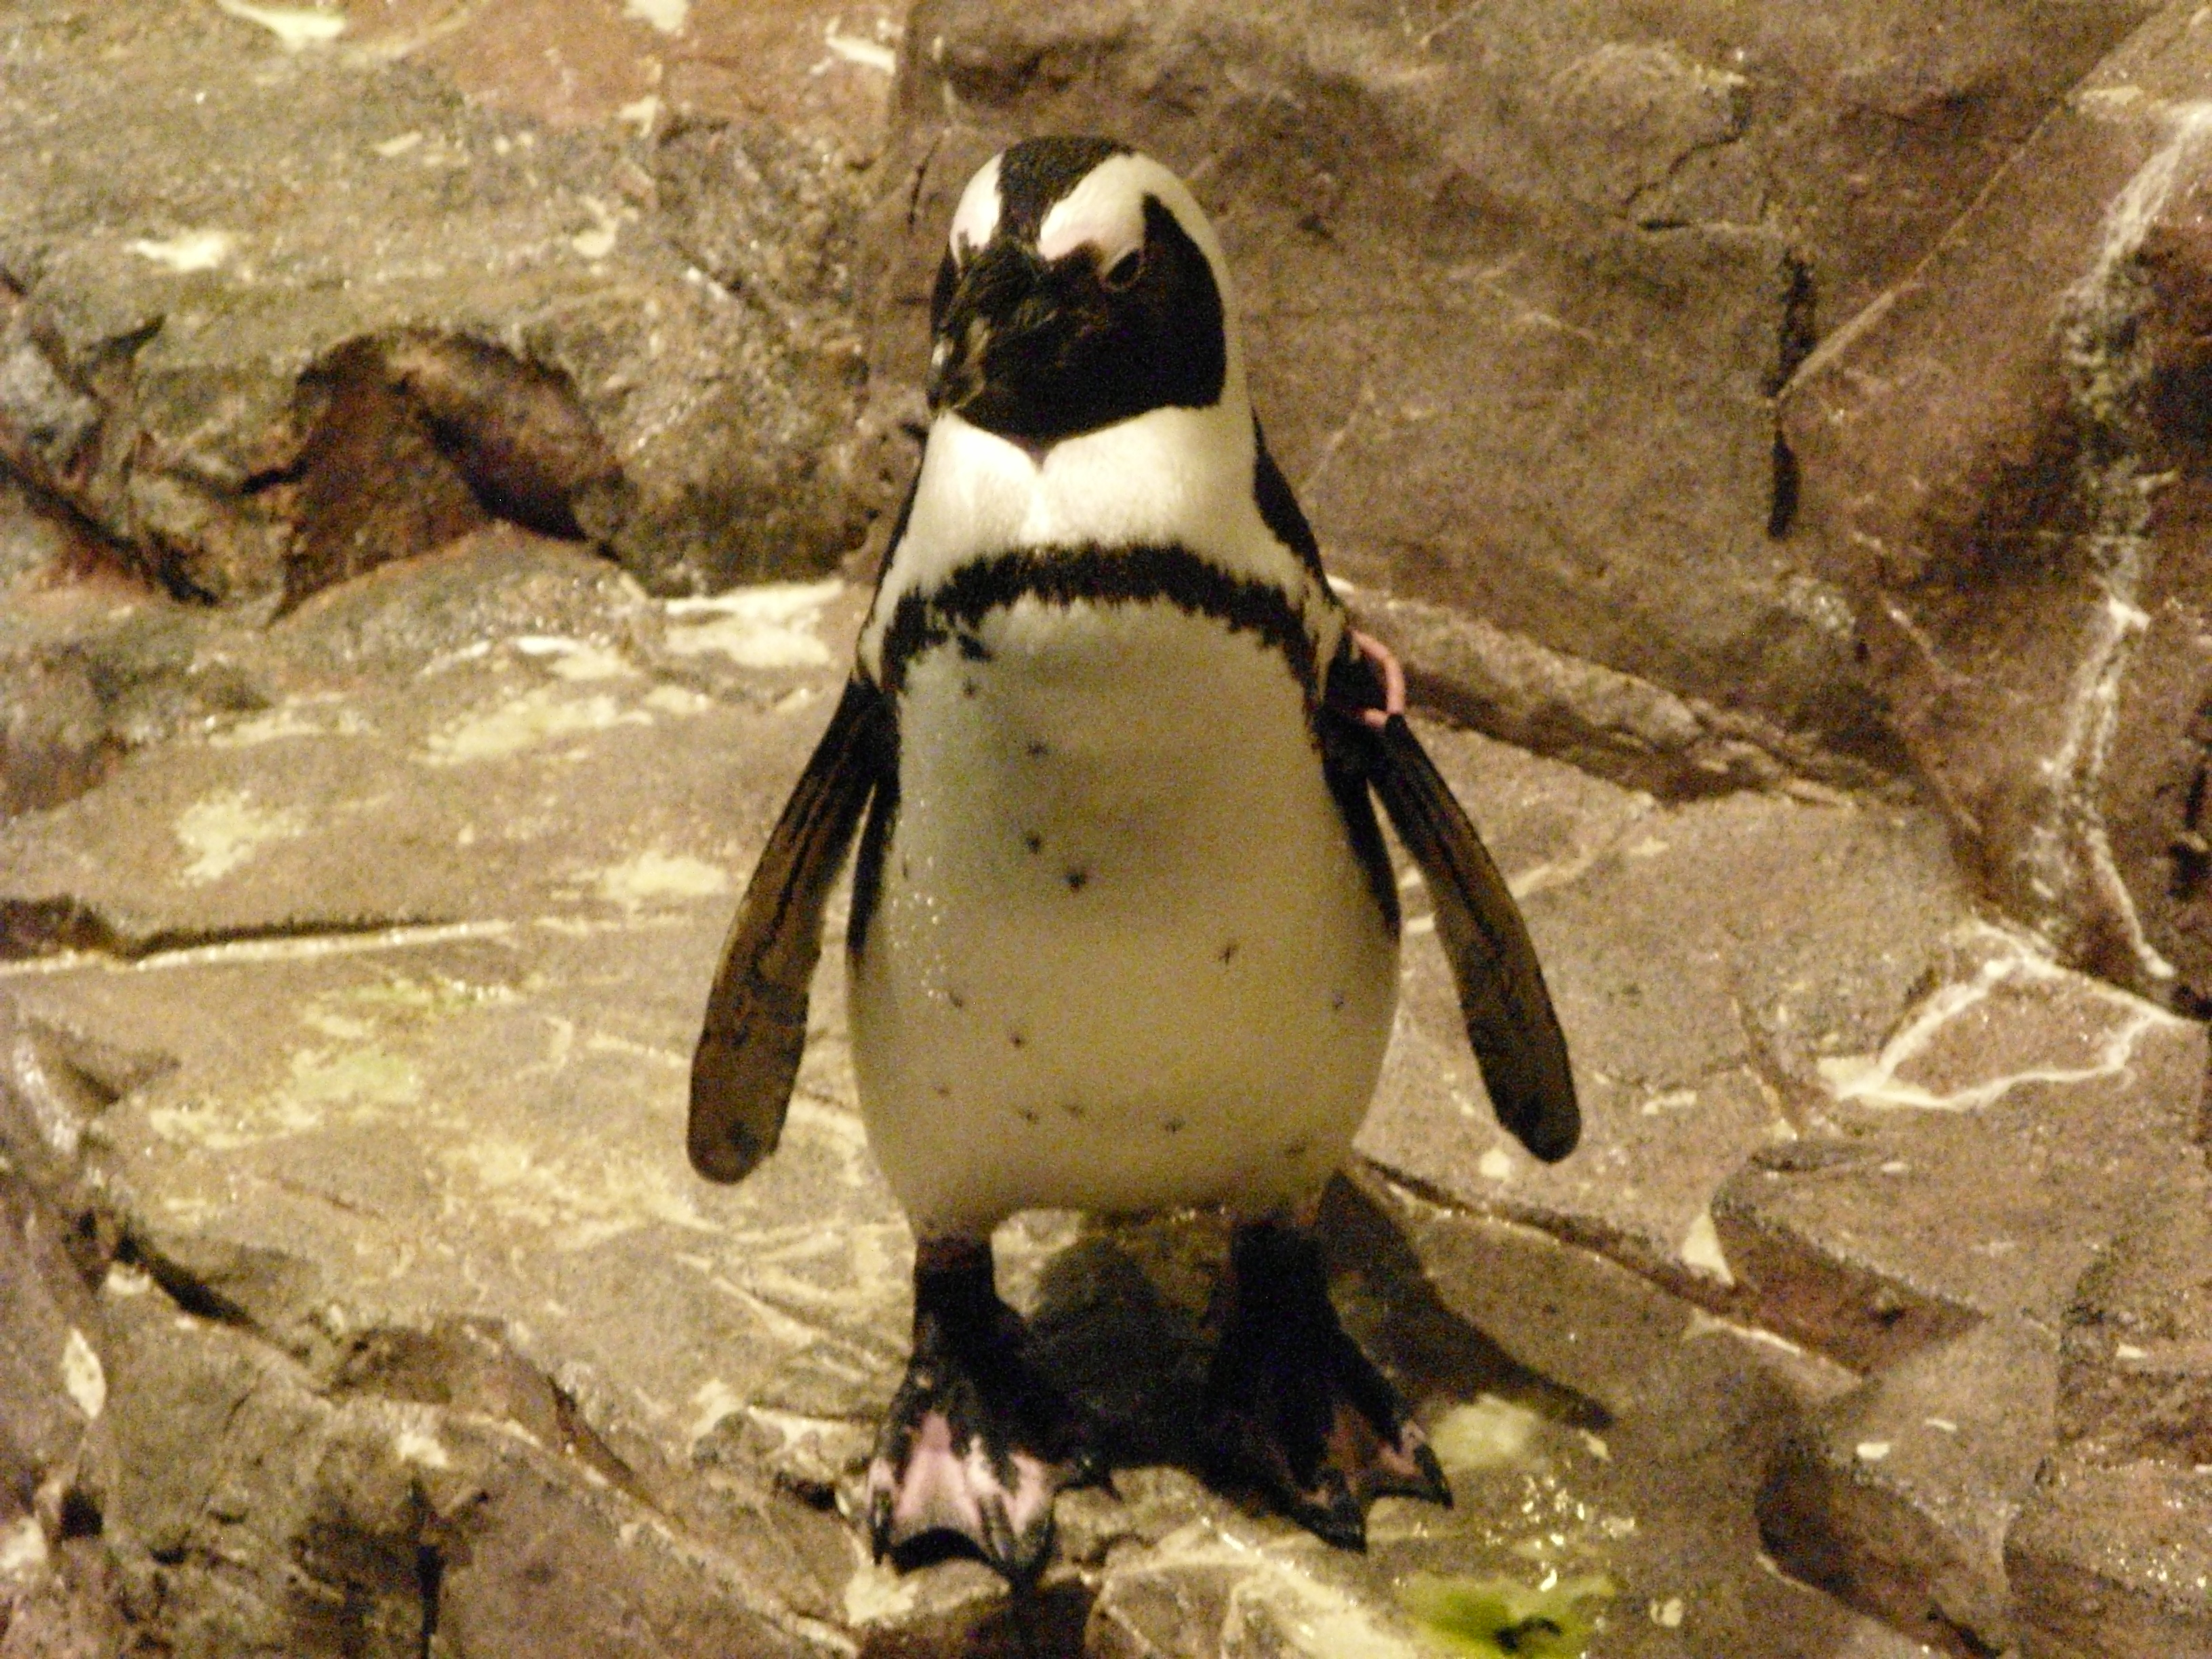penguin: (695, 117, 1592, 1586)
